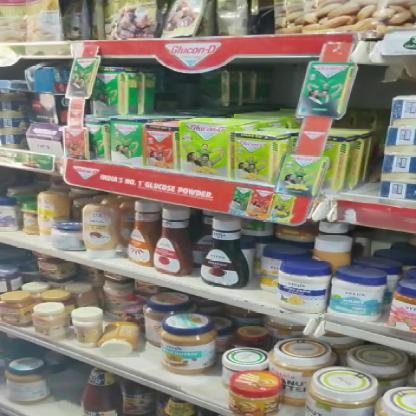Glucon D Nimbu Pani 1-KG: (180, 121, 232, 178), (233, 133, 276, 181)
Glucon D Regular 1-KG: (107, 120, 143, 164)
Glucon D Tangy orange 1-KG: (146, 120, 181, 170)
